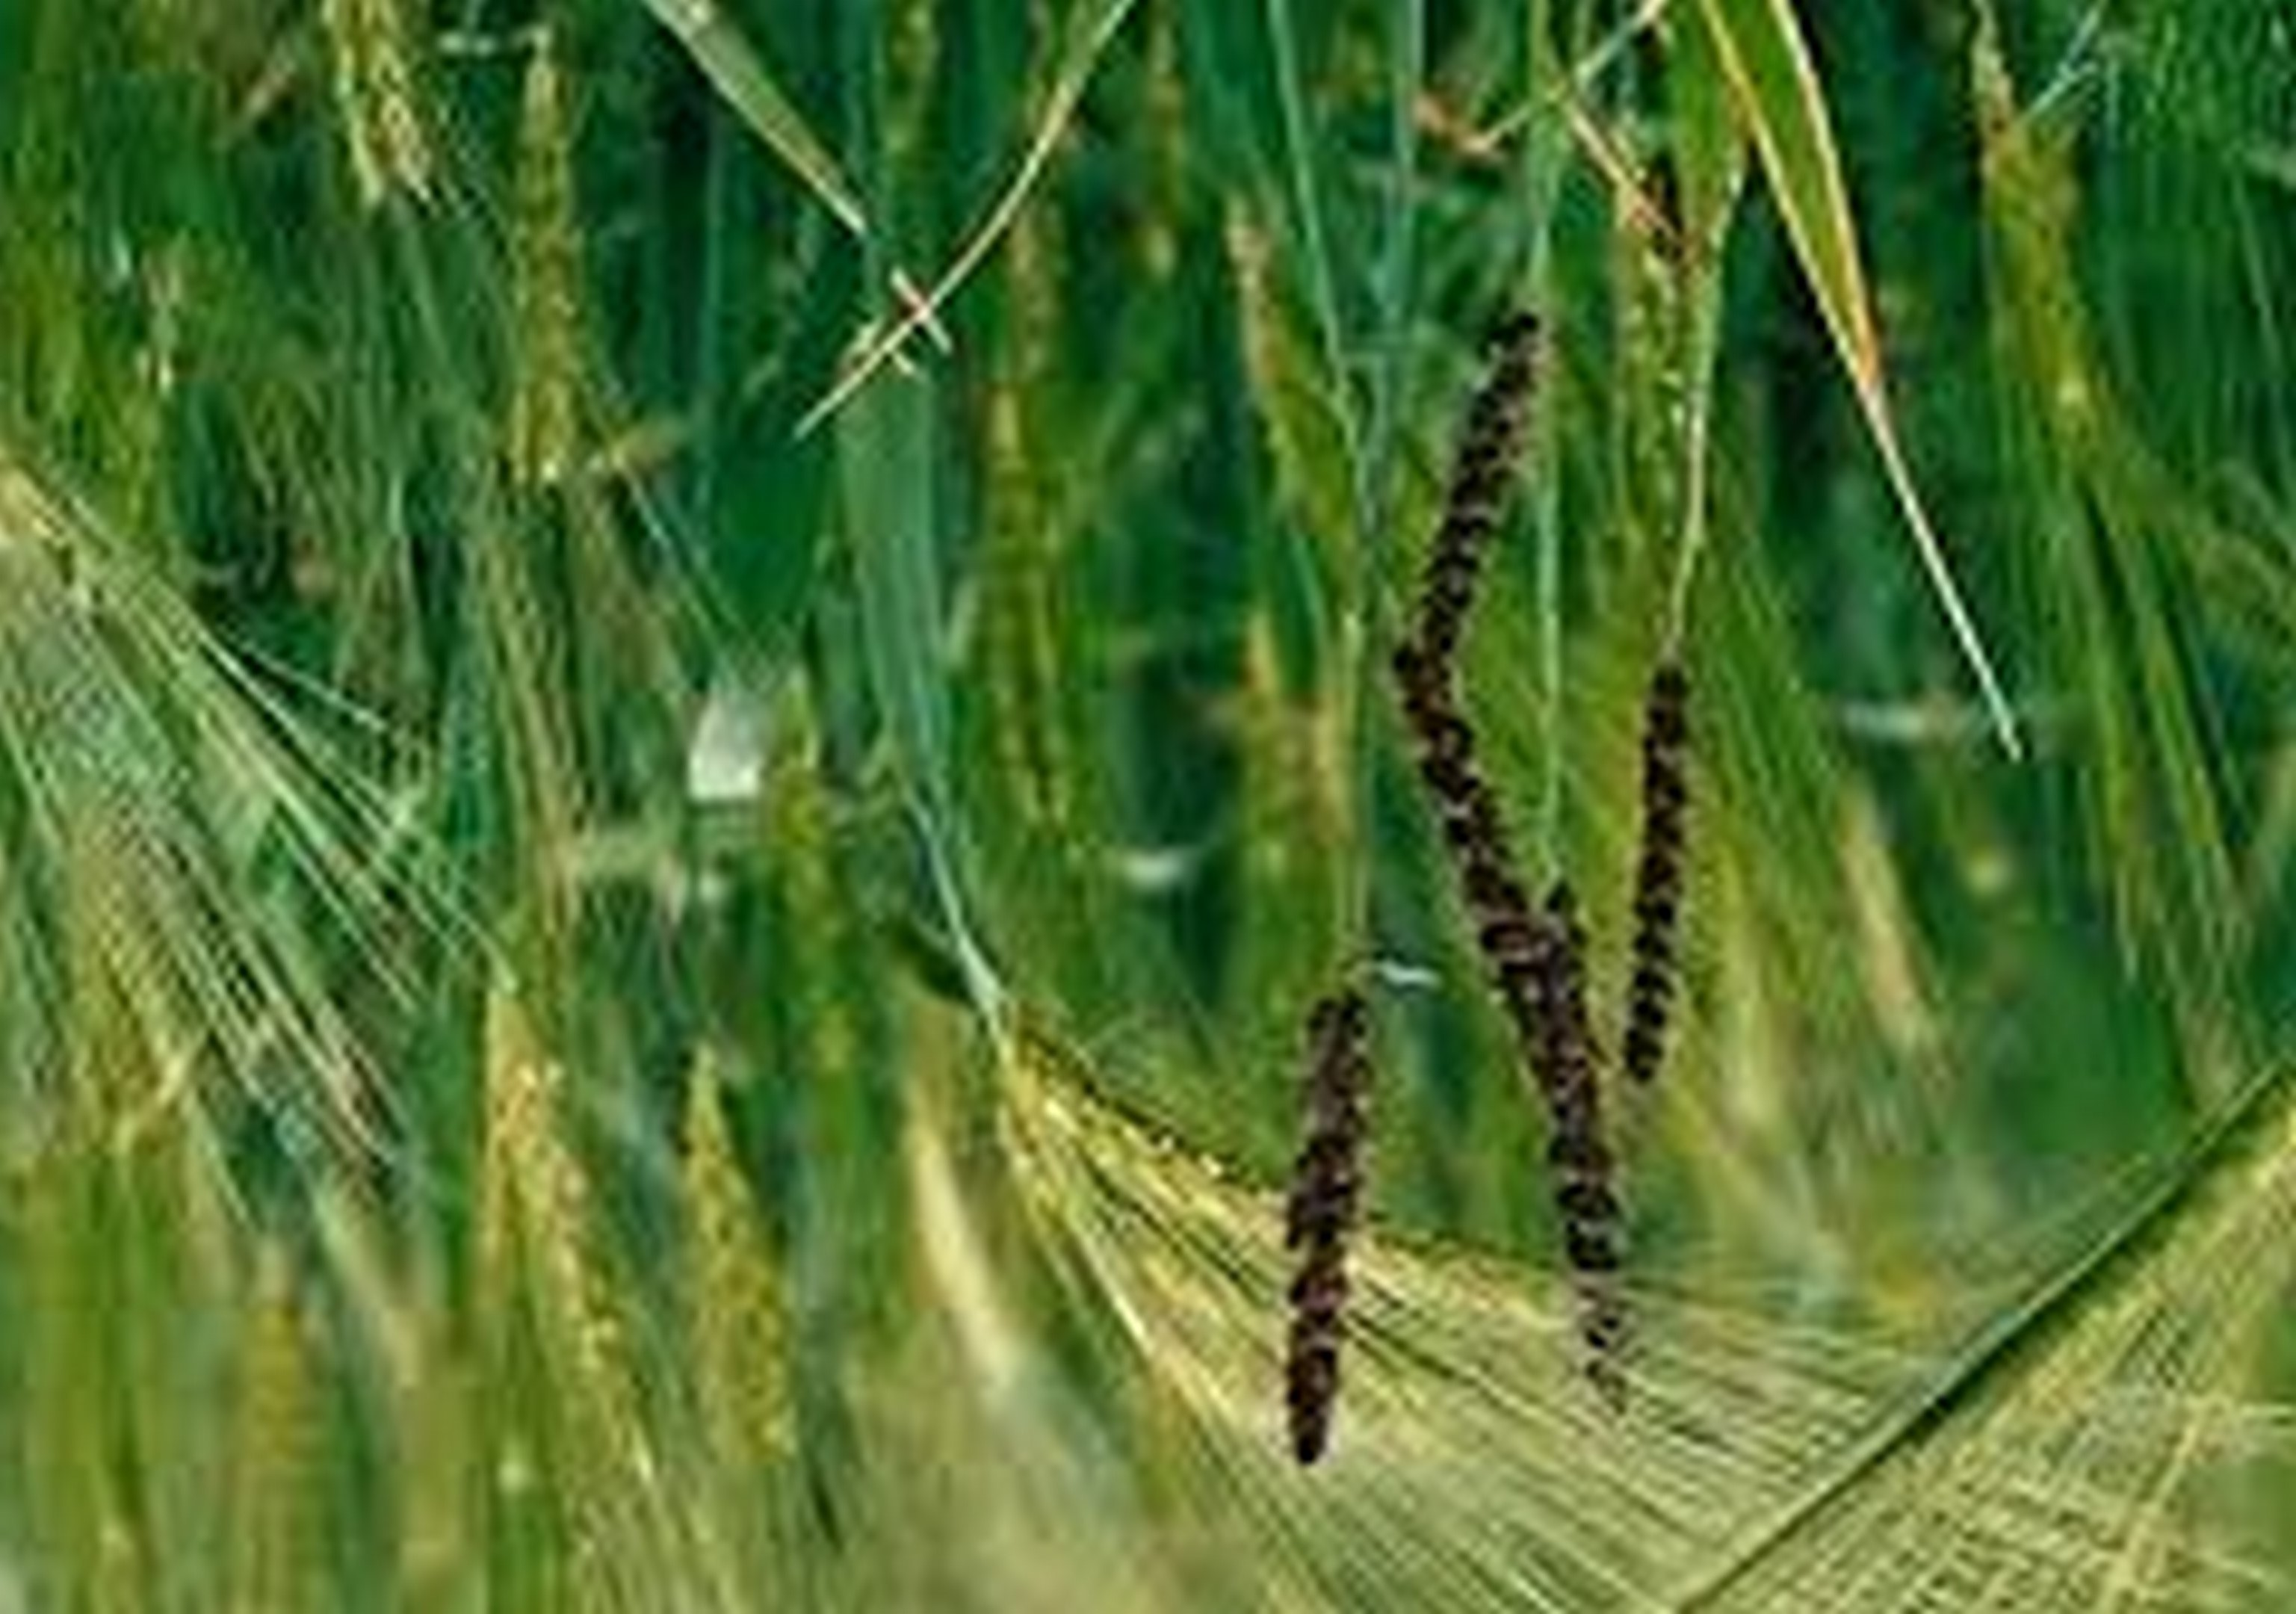Wheat Loose Smut: (1224, 611, 1769, 1469)
